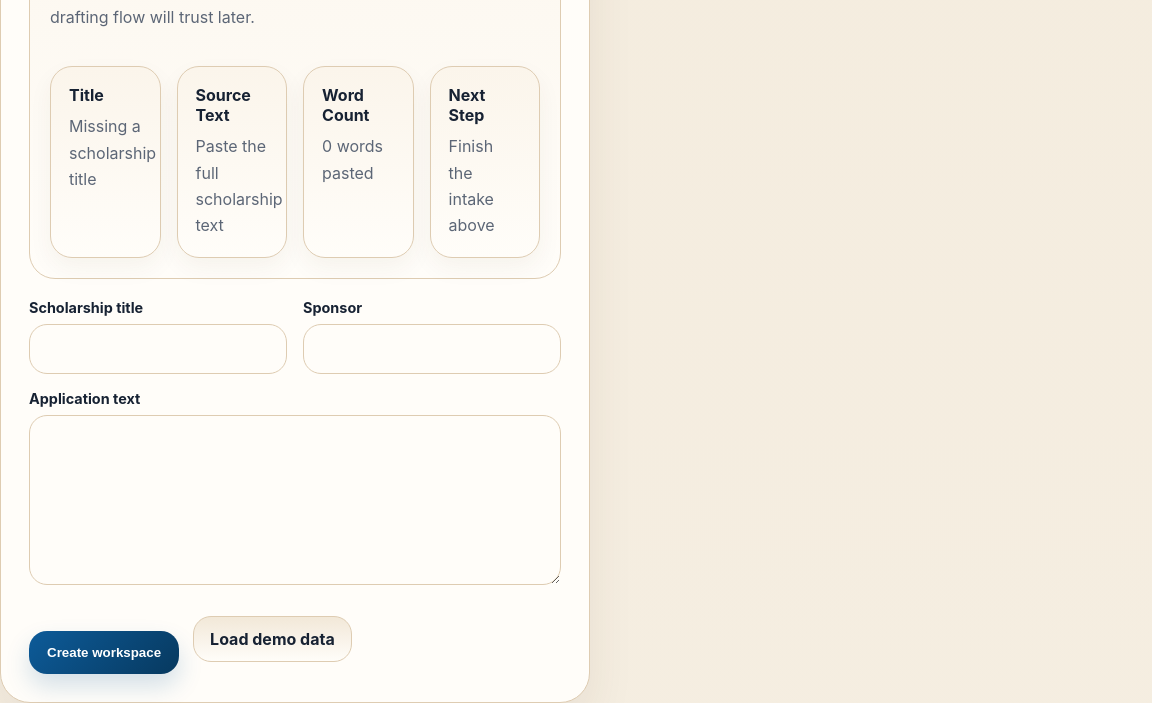
it: ScholarshipWorkspacePanel › loads applications and creates a new workspace
(page scrolled)
In the field labelled "Scholarship title": (158, 349) [29, 324, 287, 374], type "STEM Leaders Scholarship"
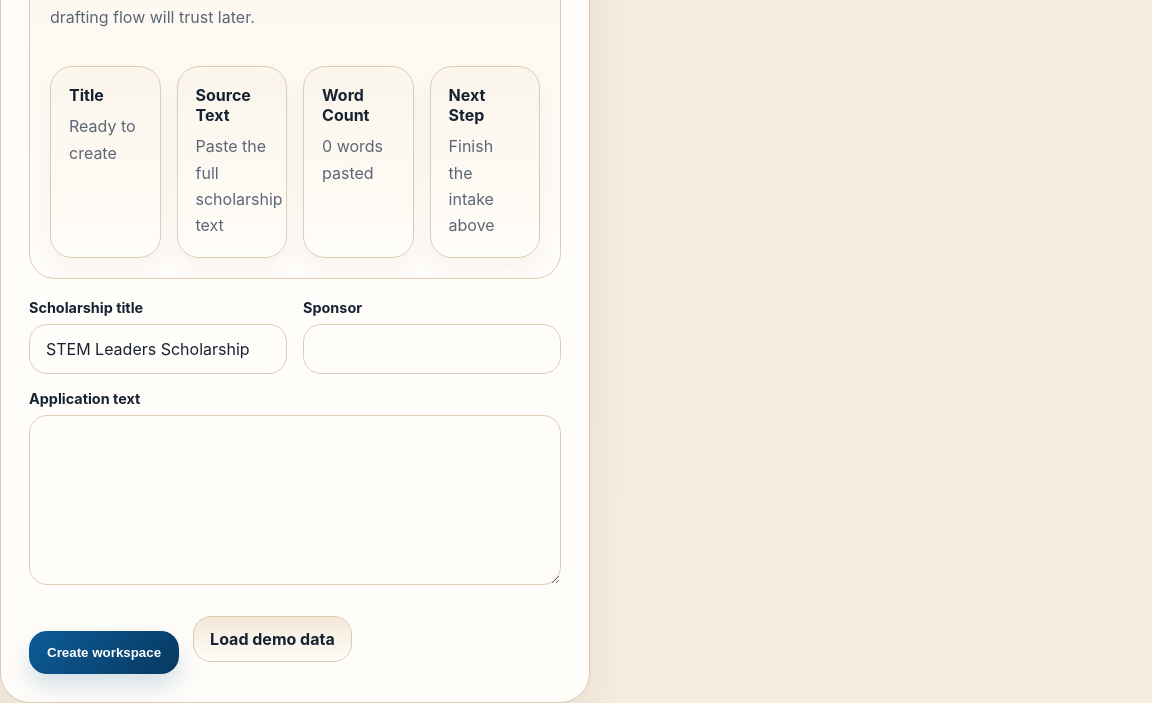
In the field labelled "Sponsor": (432, 349) [303, 324, 561, 374], type "Bright Futures Foundation"
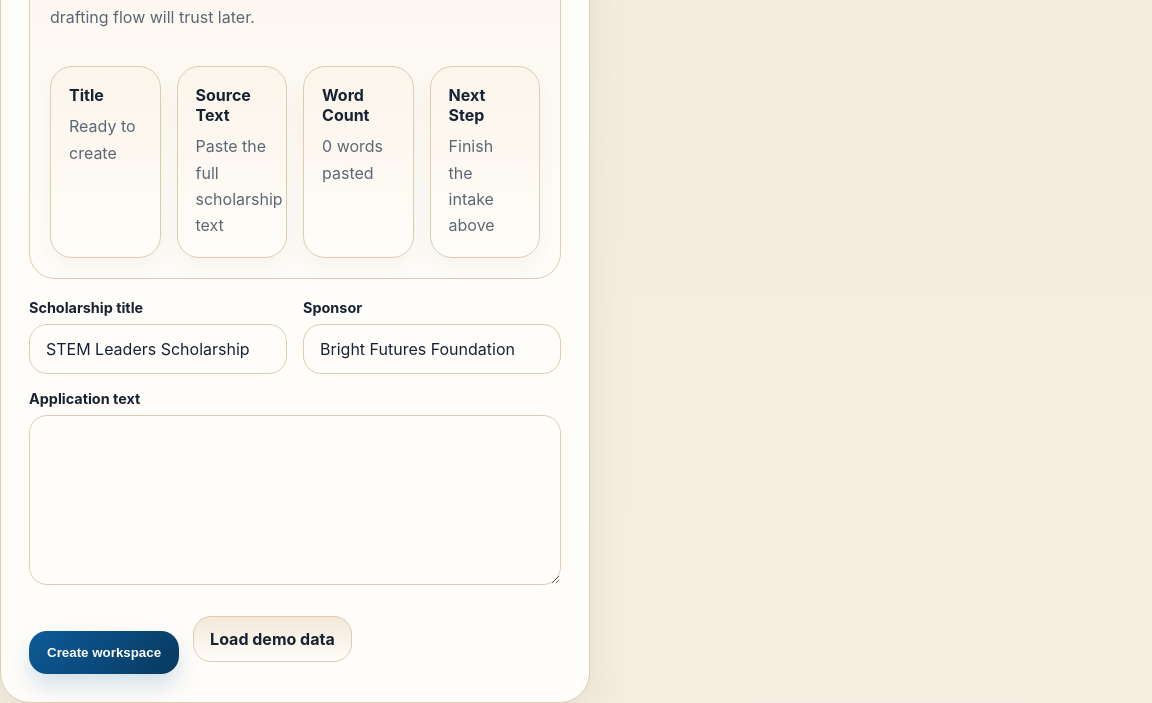
In the text box labelled "Application text": (295, 500) [29, 415, 561, 585], type "Essay Prompt: Tell us about your leadership in STEM."
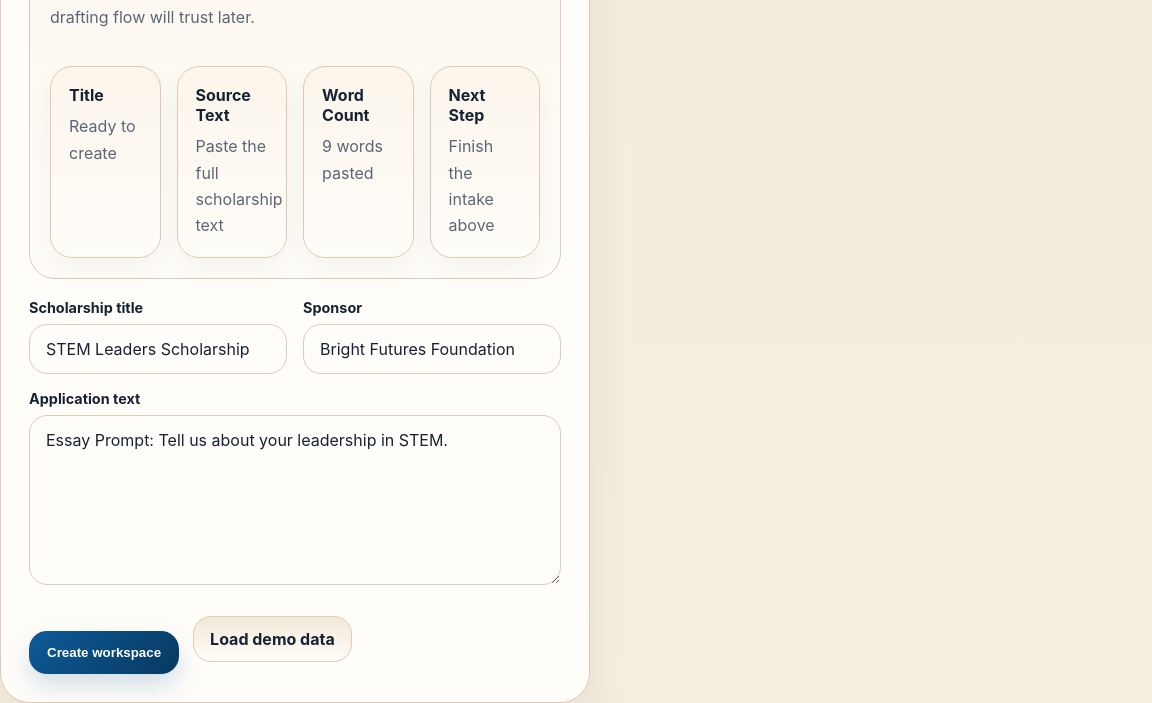
Click the button "Create workspace": (104, 652) [29, 631, 179, 674]
(page scrolled)
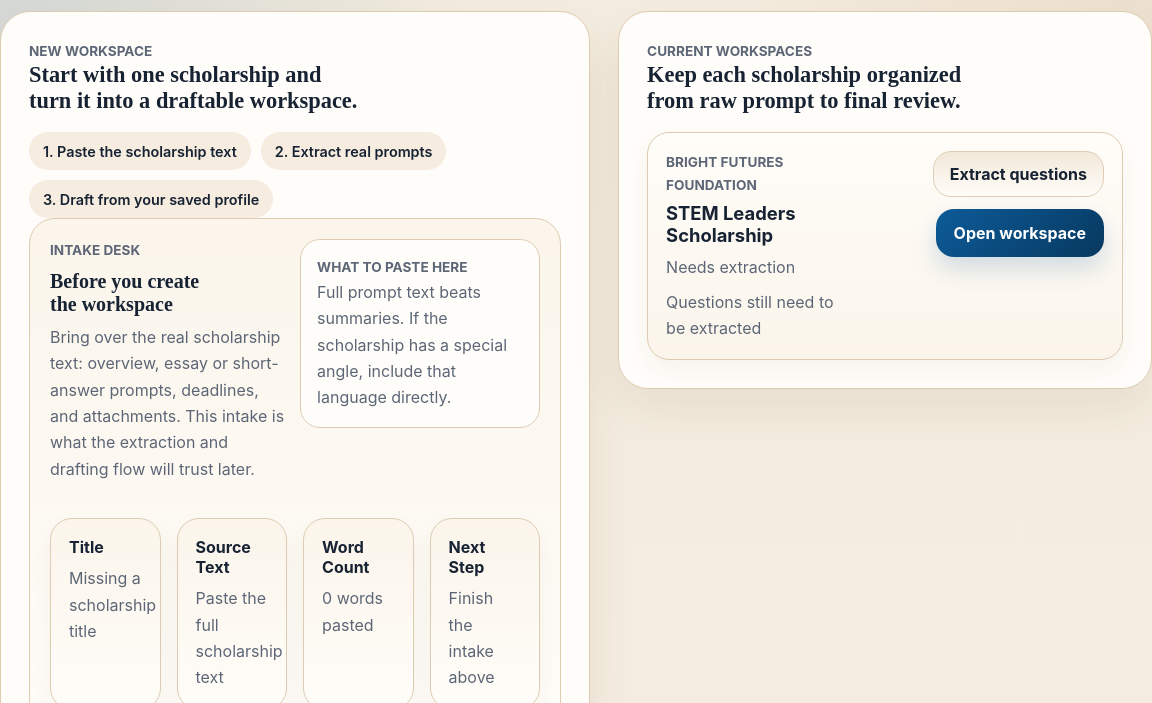
Now the heading "STEM Leaders Scholarship" is shown, box [666, 202, 796, 246]
